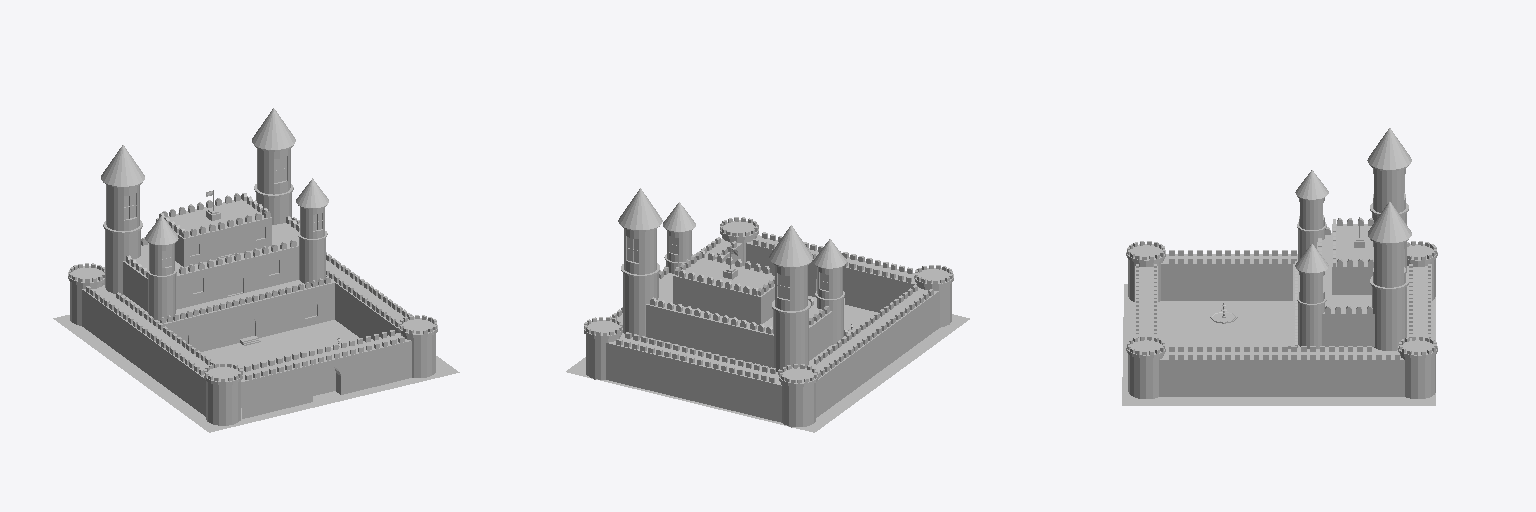
The model's file is castelo.obj.
3 views of the same model, side by side, from view 1: azimuth 30°, elevation 25°; view 2: azimuth 150°, elevation 25°; view 3: azimuth 270°, elevation 25° (orthographic).
Visible parts, largest first — view 1: Castle_OBJ; view 2: Castle_OBJ; view 3: Castle_OBJ.
Boxes of the visible parts, x1=… form: Castle_OBJ: x1=53, y1=108, x2=459, y2=432; Castle_OBJ: x1=566, y1=188, x2=969, y2=432; Castle_OBJ: x1=1122, y1=128, x2=1437, y2=405.
Size of the model in its own units: 58.11 by 40.26 by 63.65.